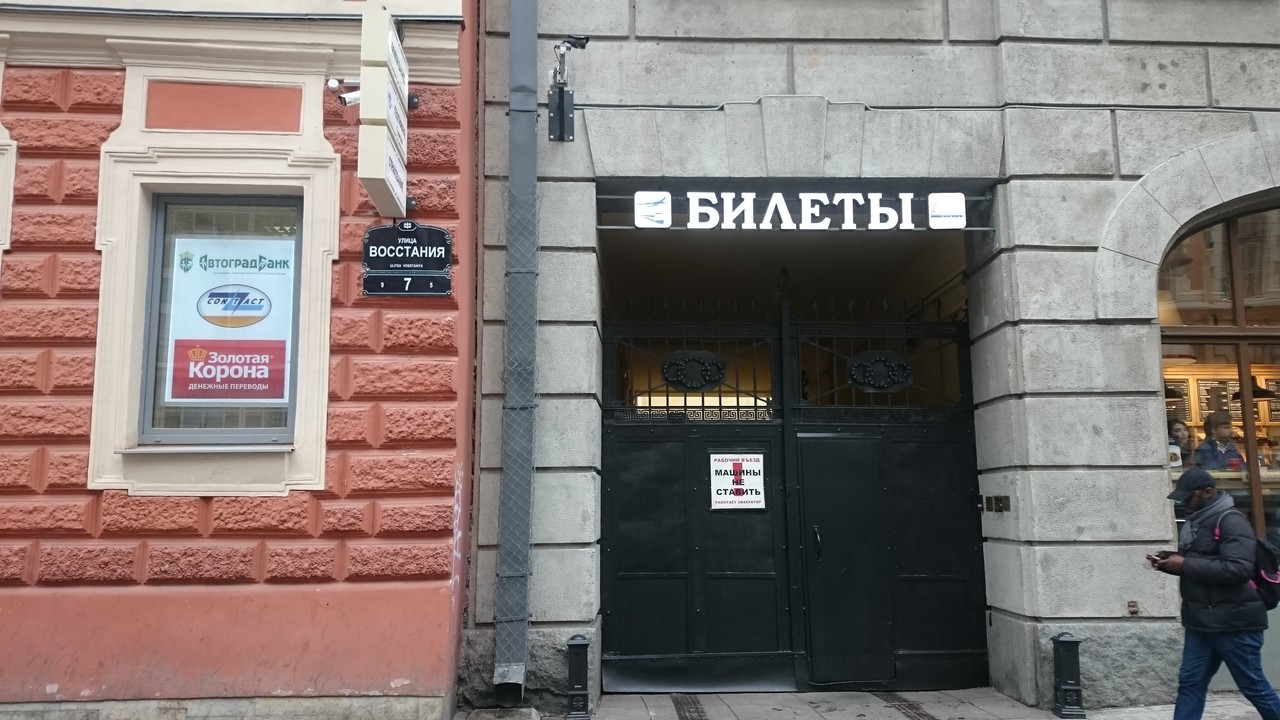arch: (595, 175, 1012, 701)
cantilever: (351, 2, 424, 223)
signboard: (630, 186, 966, 232)
window: (141, 201, 299, 443)
